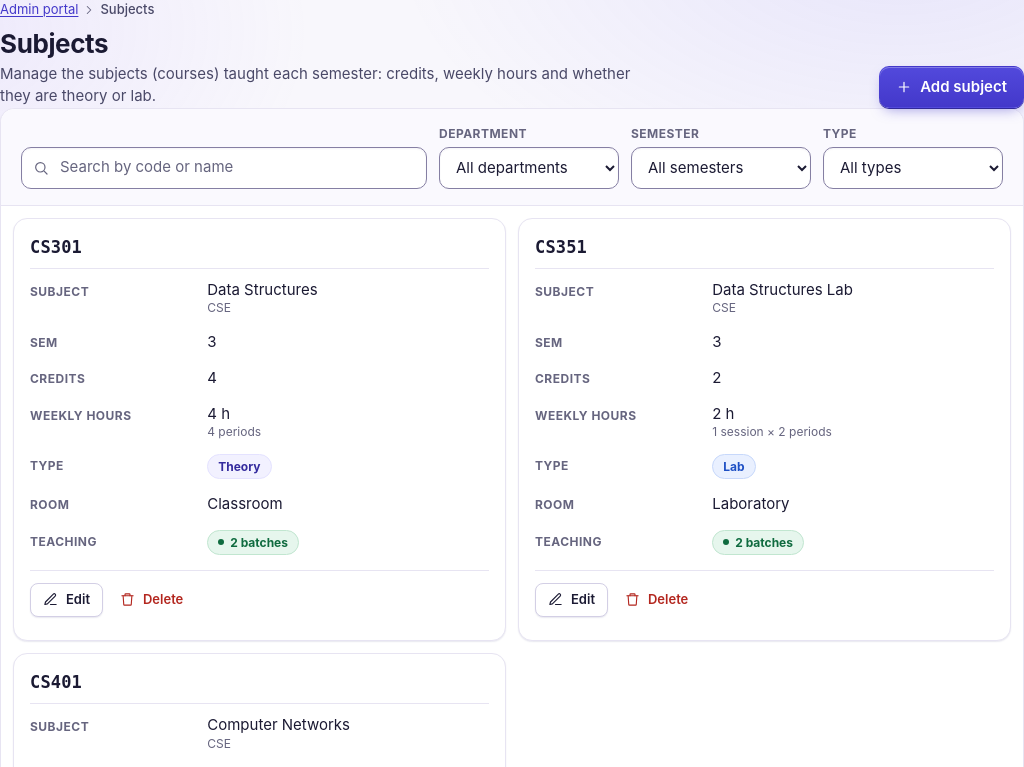
Scenario: Subjects screen - create form (DIY-TC05, TC07, TC08) › rejects a code with illegal characters
Click the button "Add subject" at (952, 87), box 879,66 -> 1023,108
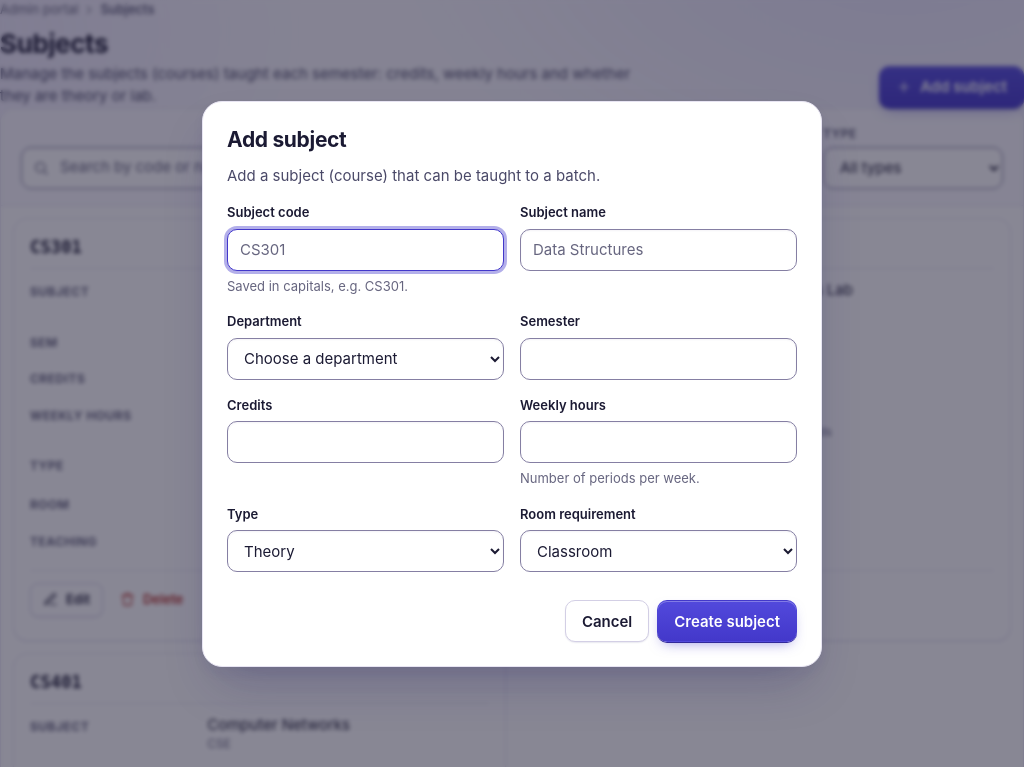
Type "cs 3!" into the field labelled "Subject code" at (366, 250), box 227,229 -> 504,271
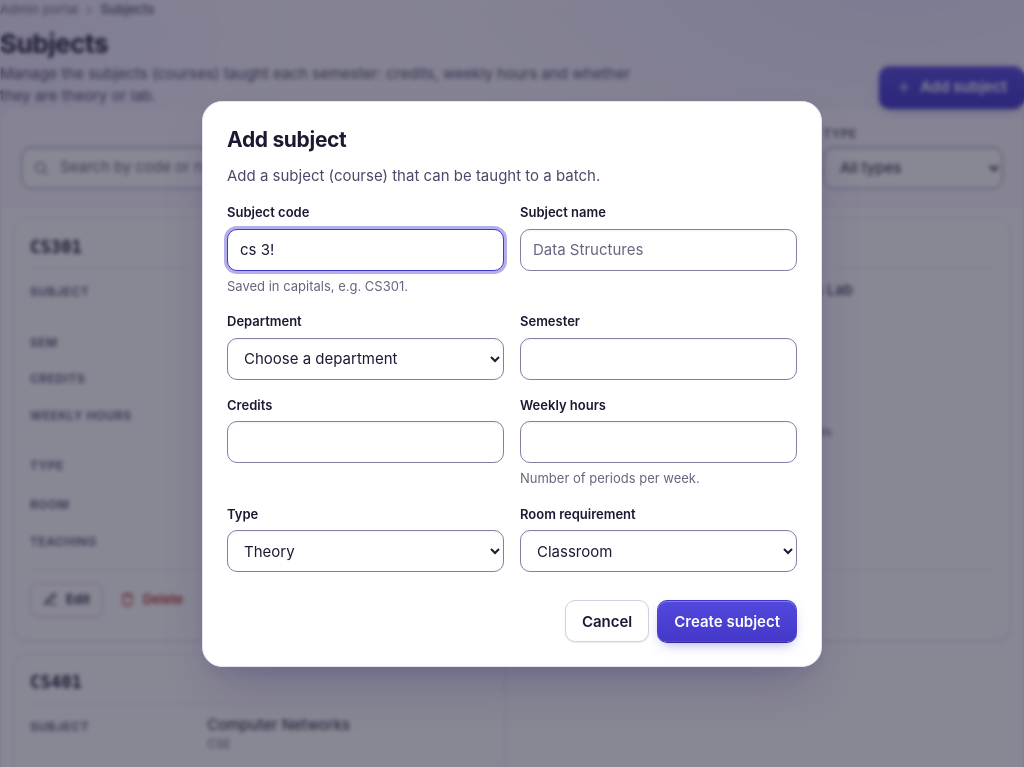
Click the button "Create subject" at (727, 621), box 657,600 -> 797,642
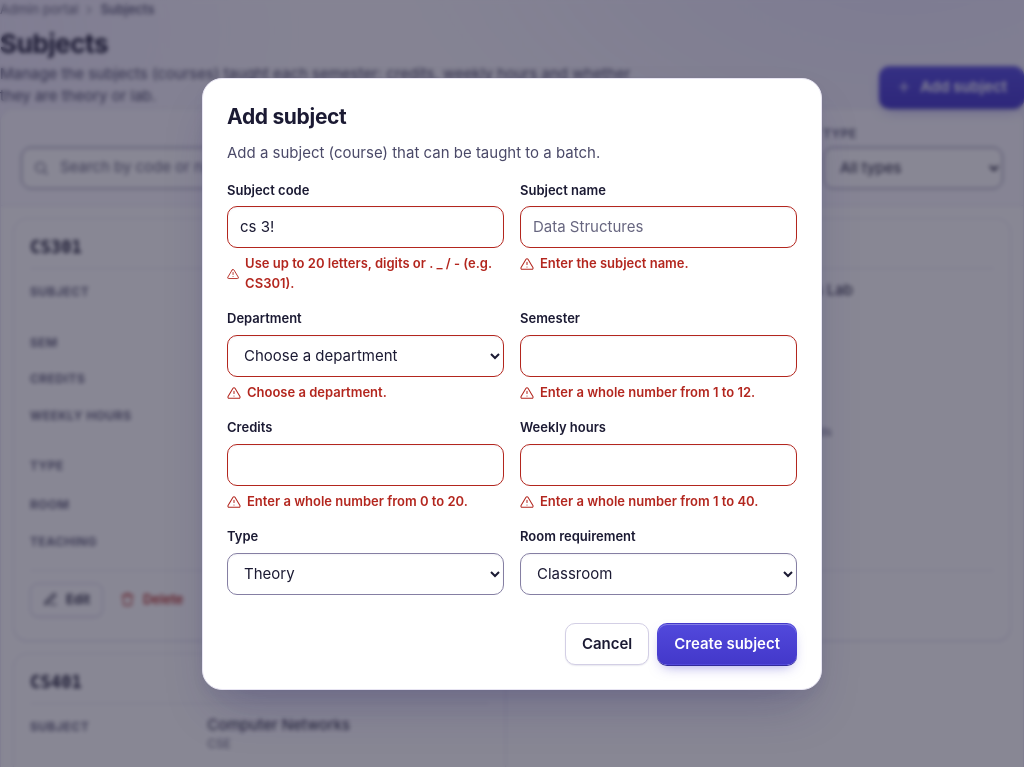
Expected: the text "Use up to 20 letters, digits or . _ / - (e.g. CS301)." is shown, 227,254 -> 504,293
